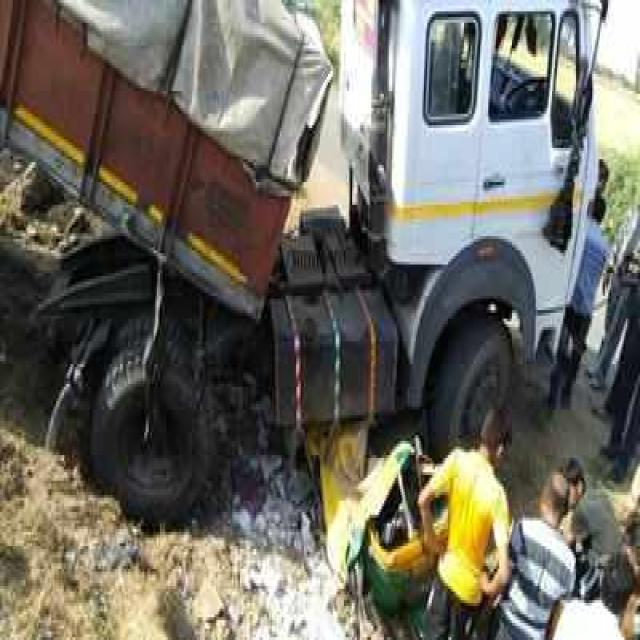accident: (320, 424, 448, 612)
truck: (1, 0, 606, 517)
